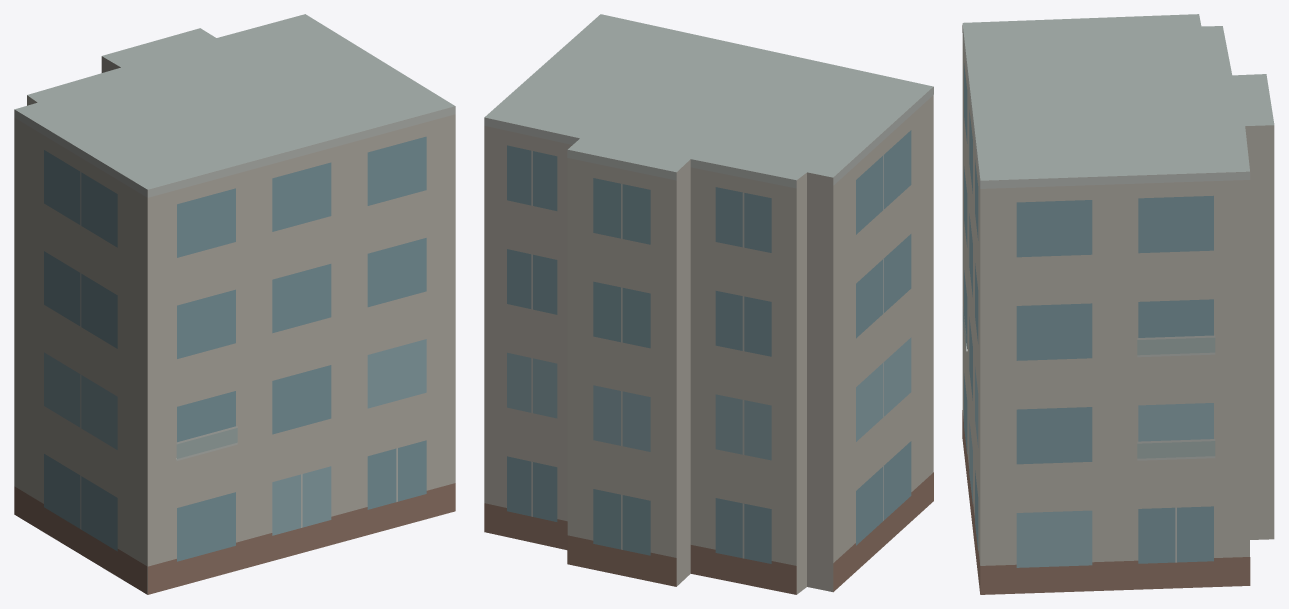
The model's file is survey-upis-32659107.glb.
3 renders of one model, left to right at view 1: azimuth 30°, elevation 25°; view 2: azimuth 150°, elevation 25°; view 3: azimuth 270°, elevation 25°, orthographic. The views are drawn at different scales.
Parts seen in each view (by area): view 1: survey-upis-32659107.tmp; view 2: survey-upis-32659107.tmp; view 3: survey-upis-32659107.tmp.
Boxes of the visible parts, x1,y1,x2,y2 form: survey-upis-32659107.tmp: (14, 14, 455, 594); survey-upis-32659107.tmp: (484, 14, 933, 594); survey-upis-32659107.tmp: (962, 14, 1274, 594).
Size of the model in its own units: 10.54 by 12.2 by 8.34.
